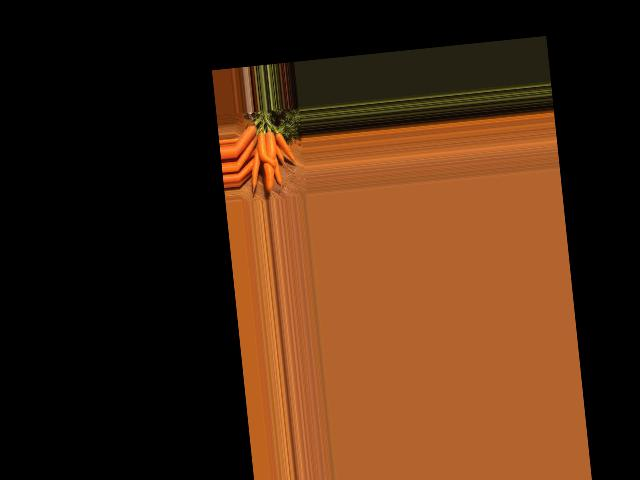carrot: (233, 122, 259, 155)
